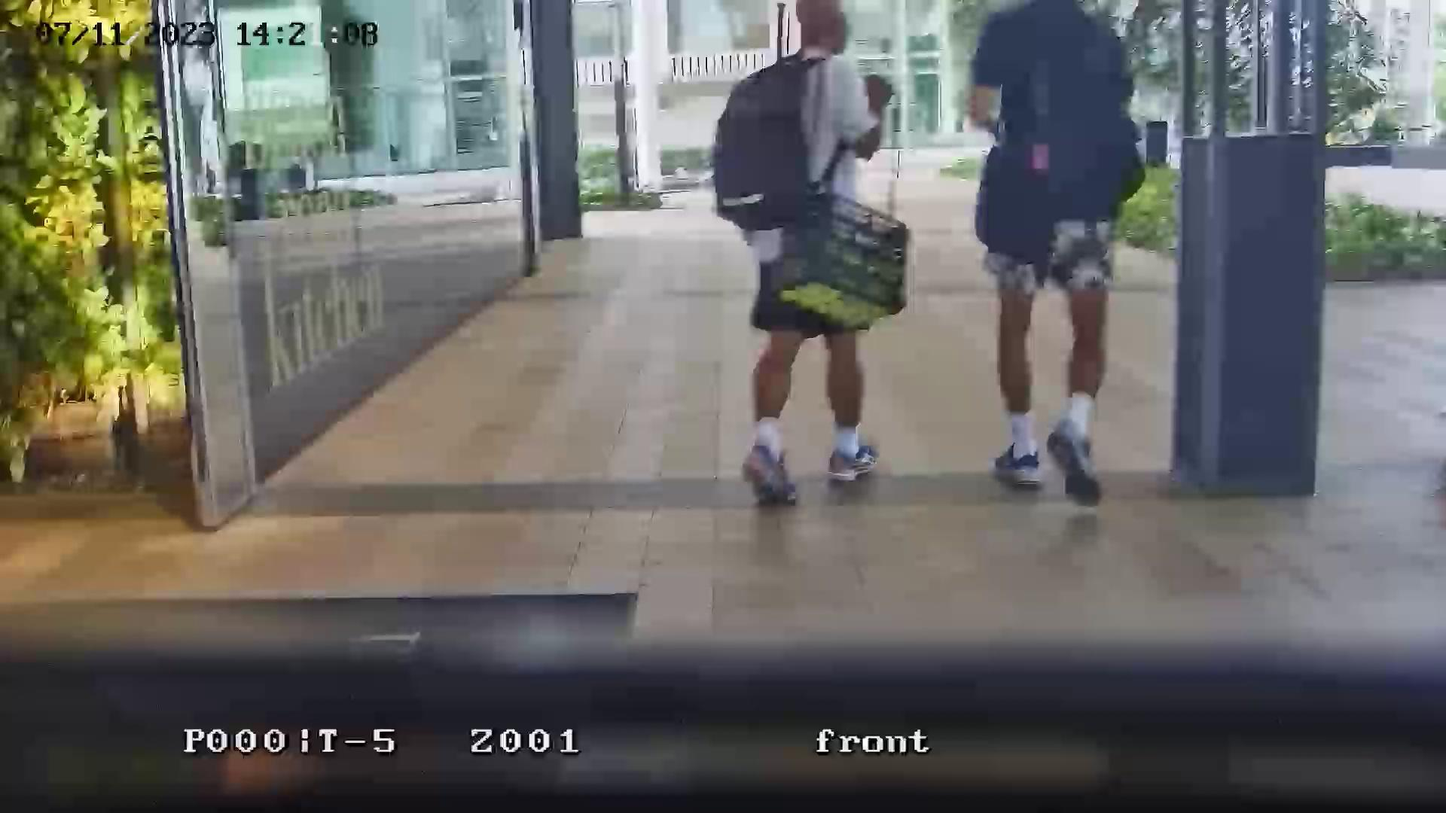person: (710, 1, 895, 507), (966, 2, 1144, 506)
